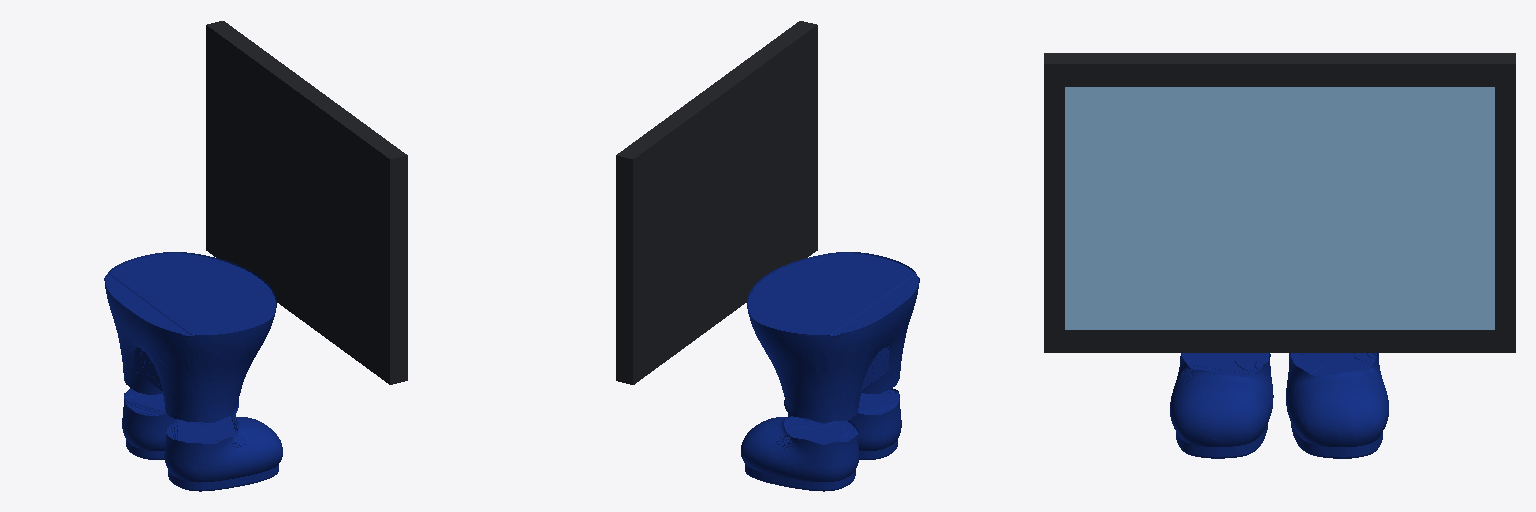
robot.urdf — haetburi:
<?xml version="1.0"?>
<!-- Haetburi biped (v16_scs0009) - generated by tools/build_model.py, do not edit by hand -->
<robot name="haetburi">
  <mujoco>
    <compiler meshdir="." balanceinertia="true" discardvisual="false" strippath="false" fusestatic="false"/>
  </mujoco>
  <material name="display"><color rgba="0.18 0.19 0.21 1"/></material>
  <material name="screen"><color rgba="0.62 0.80 0.95 1"/></material>
  <material name="shell"><color rgba="0.106 0.216 0.541 1"/></material>
  <material name="motor"><color rgba="0.15 0.15 0.17 1"/></material>
  <material name="foot"><color rgba="0.25 0.25 0.28 1"/></material>
  <link name="world"/>
  <joint name="floating_base" type="floating">
    <parent link="world"/><child link="pelvis"/>
    <origin xyz="0 0 0" rpy="0 0 0"/>
  </joint>
  <link name="pelvis">
    <inertial>
      <origin xyz="-0.00916011 -6.07431e-05 0.0431605" rpy="0 0 0"/>
      <mass value="0.239454"/>
      <inertia ixx="0.000273419" ixy="1.4343e-07" ixz="0.000100212" iyy="0.000345887" iyz="-2.74907e-07" izz="0.00029722"/>
    </inertial>
    <visual><origin xyz="0 0 0" rpy="0 0 0"/><geometry><mesh filename="meshes/pelvis.stl"/></geometry><material name="shell"/></visual>
    <visual><origin xyz="0.00560262 0.0242998 0.024625" rpy="0 0 0"/><geometry><box size="0.0232 0.0121 0.02525"/></geometry><material name="motor"/></visual>
    <visual><origin xyz="0.00559738 -0.0245996 0.024625" rpy="0 0 0"/><geometry><box size="0.0232 0.0121 0.02525"/></geometry><material name="motor"/></visual>
    <collision><origin xyz="0.0074116 -0.000145202 0.025925" rpy="0 0 0"/><geometry><box size="0.0888616 0.118003 0.05185"/></geometry></collision>
  </link>
  <link name="torso">
    <inertial>
      <origin xyz="0.0213729 0.000103123 0.129208" rpy="0 0 0"/>
      <mass value="2.10184"/>
      <inertia ixx="0.0337524" ixy="-9.90532e-05" ixz="0.00607724" iyy="0.0339552" iyz="-9.52832e-05" izz="0.0185571"/>
    </inertial>
    <visual><origin xyz="0 0 0" rpy="0 0 0"/><geometry><mesh filename="meshes/torso.stl"/></geometry><material name="shell"/></visual>
    <visual><origin xyz="0.0833876 0 0.040194" rpy="0 0 0"/><geometry><box size="0.01173 0.21471 0.145146"/></geometry><material name="display"/></visual>
    <visual><origin xyz="0.0892526 0 0.040194" rpy="0 0 0"/><geometry><box size="0.0004 0.19584 0.1224"/></geometry><material name="screen"/></visual>
    <collision><origin xyz="-0.0387164 -1.80232e-06 0.0285634" rpy="0 0 0"/><geometry><box size="0.181731 0.123226 0.121352"/></geometry></collision>
    <collision><origin xyz="0.047277 0.0954498 0.0575575" rpy="0 0 0"/><geometry><sphere radius="0.0690444"/></geometry></collision>
    <collision><origin xyz="0.0476039 -0.0955962 0.0575575" rpy="0 0 0"/><geometry><sphere radius="0.068978"/></geometry></collision>
    <collision><origin xyz="-0.00593406 0.000303473 0.116523" rpy="0 0 0"/><geometry><sphere radius="0.118425"/></geometry></collision>
    <collision><origin xyz="-0.0103403 -0.000139522 0.171055" rpy="0 0 0"/><geometry><sphere radius="0.136627"/></geometry></collision>
    <collision><origin xyz="-0.0157453 -0.000230275 0.225596" rpy="0 0 0"/><geometry><sphere radius="0.135044"/></geometry></collision>
    <collision><origin xyz="-0.0123522 0.00097276 0.280134" rpy="0 0 0"/><geometry><sphere radius="0.117426"/></geometry></collision>
    <collision><origin xyz="-0.00730916 0.00769967 0.334706" rpy="0 0 0"/><geometry><sphere radius="0.0836977"/></geometry></collision>
    <collision><origin xyz="-0.013395 -0.00254491 0.38923" rpy="0 0 0"/><geometry><sphere radius="0.0485723"/></geometry></collision>
    <collision><origin xyz="0.0833876 0 0.040194" rpy="0 0 0"/><geometry><box size="0.01173 0.21471 0.145146"/></geometry></collision>
  </link>
  <link name="leg_l">
    <inertial>
      <origin xyz="-0.000604713 -0.000218106 -0.0198106" rpy="0 0 0"/>
      <mass value="0.0180786"/>
      <inertia ixx="6.26529e-06" ixy="-5.08571e-09" ixz="1.19537e-07" iyy="5.41488e-06" iyz="5.48807e-08" izz="5.06589e-06"/>
    </inertial>
    <visual><origin xyz="0 0 0" rpy="0 0 0"/><geometry><mesh filename="meshes/leg_l.stl"/></geometry><material name="shell"/></visual>
    <collision><origin xyz="-5.62186e-07 -7.75024e-06 -0.00606946" rpy="0 0 0"/><geometry><box size="0.0463535 0.0424676 0.0121389"/></geometry></collision>
  </link>
  <link name="ankle_l">
    <inertial>
      <origin xyz="-0.00225914 -0.000711287 8.74534e-05" rpy="0 0 0"/>
      <mass value="0.0247385"/>
      <inertia ixx="2.1269e-06" ixy="-1.58205e-07" ixz="1.94514e-08" iyy="3.27059e-06" iyz="1.76044e-09" izz="4.30573e-06"/>
    </inertial>
    <visual><origin xyz="0.0056 0 0" rpy="0 0 0"/><geometry><box size="0.0232 0.02525 0.0121"/></geometry><material name="motor"/></visual>
  </link>
  <link name="foot_l">
    <inertial>
      <origin xyz="0.0104958 0.00133542 -0.000873181" rpy="0 0 0"/>
      <mass value="0.0685808"/>
      <inertia ixx="1.68585e-05" ixy="-1.46845e-06" ixz="-1.37248e-06" iyy="3.12043e-05" iyz="-1.76921e-07" izz="3.30341e-05"/>
    </inertial>
    <visual><origin xyz="0 0 0" rpy="0 0 0"/><geometry><mesh filename="meshes/foot_l.stl"/></geometry><material name="shell"/></visual>
    <visual><origin xyz="0 0 0.0056" rpy="0 0 0"/><geometry><box size="0.02525 0.0121 0.0232"/></geometry><material name="motor"/></visual>
    <collision><origin xyz="0 0 0" rpy="0 0 0"/><geometry><mesh filename="meshes/foot_l.stl"/></geometry></collision>
  </link>
  <link name="leg_r">
    <inertial>
      <origin xyz="-0.000451072 0.000250654 -0.0196885" rpy="0 0 0"/>
      <mass value="0.0181871"/>
      <inertia ixx="6.33147e-06" ixy="-2.52415e-08" ixz="9.37158e-08" iyy="5.41953e-06" iyz="-6.31822e-08" izz="5.11627e-06"/>
    </inertial>
    <visual><origin xyz="0 0 0" rpy="0 0 0"/><geometry><mesh filename="meshes/leg_r.stl"/></geometry><material name="shell"/></visual>
    <collision><origin xyz="1.34256e-06 1.22866e-05 -0.00599163" rpy="0 0 0"/><geometry><box size="0.0463159 0.0425492 0.0119833"/></geometry></collision>
  </link>
  <link name="ankle_r">
    <inertial>
      <origin xyz="-0.00225914 0.000478078 8.74534e-05" rpy="0 0 0"/>
      <mass value="0.0247385"/>
      <inertia ixx="2.11905e-06" ixy="1.06334e-07" ixz="1.94514e-08" iyy="3.27059e-06" iyz="-1.18324e-09" izz="4.29788e-06"/>
    </inertial>
    <visual><origin xyz="0.0056 0 0" rpy="0 0 0"/><geometry><box size="0.0232 0.02525 0.0121"/></geometry><material name="motor"/></visual>
  </link>
  <link name="foot_r">
    <inertial>
      <origin xyz="0.0103512 -0.00147155 -0.000916535" rpy="0 0 0"/>
      <mass value="0.0684201"/>
      <inertia ixx="1.67669e-05" ixy="1.57499e-06" ixz="-1.29635e-06" iyy="3.09505e-05" iyz="1.96094e-07" izz="3.28156e-05"/>
    </inertial>
    <visual><origin xyz="0 0 0" rpy="0 0 0"/><geometry><mesh filename="meshes/foot_r.stl"/></geometry><material name="shell"/></visual>
    <visual><origin xyz="0 0 0.0056" rpy="0 0 0"/><geometry><box size="0.02525 0.0121 0.0232"/></geometry><material name="motor"/></visual>
    <collision><origin xyz="0 0 0" rpy="0 0 0"/><geometry><mesh filename="meshes/foot_r.stl"/></geometry></collision>
  </link>
  <joint name="waist_fixed" type="fixed">
    <parent link="pelvis"/><child link="torso"/>
    <origin xyz="0 0 0.05185" rpy="0 0 0"/>
  </joint>
  <joint name="hip_yaw_l" type="revolute">
    <parent link="pelvis"/><child link="leg_l"/>
    <origin xyz="2.61731e-06 0.0242998 0" rpy="0 0 0"/>
    <axis xyz="0 0 1"/>
    <limit lower="-0.523599" upper="0.523599" effort="0.226" velocity="10.5"/>
    <dynamics damping="0.016142857142857146" friction="0.006457142857142858"/>
  </joint>
  <joint name="hip_yaw_r" type="revolute">
    <parent link="pelvis"/><child link="leg_r"/>
    <origin xyz="-2.61731e-06 -0.0245996 0" rpy="0 0 0"/>
    <axis xyz="0 0 1"/>
    <limit lower="-0.523599" upper="0.523599" effort="0.226" velocity="10.5"/>
    <dynamics damping="0.016142857142857146" friction="0.006457142857142858"/>
  </joint>
  <joint name="ankle_pitch_l" type="revolute">
    <parent link="leg_l"/><child link="ankle_l"/>
    <origin xyz="0.0172286 0.00260068 -0.0443" rpy="0 0 0"/>
    <axis xyz="0 1 0"/>
    <limit lower="-0.261799" upper="0.261799" effort="0.226" velocity="10.5"/>
    <dynamics damping="0.016142857142857146" friction="0.006457142857142858"/>
  </joint>
  <joint name="ankle_pitch_r" type="revolute">
    <parent link="leg_r"/><child link="ankle_r"/>
    <origin xyz="0.0173476 -0.0013895 -0.0443" rpy="0 0 0"/>
    <axis xyz="0 1 0"/>
    <limit lower="-0.261799" upper="0.261799" effort="0.226" velocity="10.5"/>
    <dynamics damping="0.016142857142857146" friction="0.006457142857142858"/>
  </joint>
  <joint name="ankle_roll_l" type="revolute">
    <parent link="ankle_l"/><child link="foot_l"/>
    <origin xyz="-0.0225 -0.00305 0.000375" rpy="0 0 0"/>
    <axis xyz="1 0 0"/>
    <limit lower="-0.20944" upper="0.20944" effort="0.226" velocity="10.5"/>
    <dynamics damping="0.016142857142857146" friction="0.006457142857142858"/>
  </joint>
  <joint name="ankle_roll_r" type="revolute">
    <parent link="ankle_r"/><child link="foot_r"/>
    <origin xyz="-0.0225 0.00205 0.000375" rpy="0 0 0"/>
    <axis xyz="1 0 0"/>
    <limit lower="-0.20944" upper="0.20944" effort="0.226" velocity="10.5"/>
    <dynamics damping="0.016142857142857146" friction="0.006457142857142858"/>
  </joint>
</robot>

--- What the picture shows (computed from the rendered views, not written in the file) ---
3 views of the same robot in one strip: view 1: azimuth 30°, elevation 25°; view 2: azimuth 150°, elevation 25°; view 3: azimuth 270°, elevation 25° (orthographic).
Model haetburi with 9 links and 8 joints (6 revolute, 1 fixed, 1 floating), rooted at world, posed all joints at 0.
Links seen in each view (by area): view 1: torso, pelvis, foot_r, foot_l, leg_r, leg_l; view 2: torso, pelvis, foot_l, foot_r, leg_l; view 3: torso, foot_r, foot_l.
Link boxes in pixels (box(x1,y1,x2,y2)): torso: box(206, 21, 407, 384); pelvis: box(104, 252, 276, 407); foot_r: box(164, 416, 282, 491); foot_l: box(122, 388, 235, 459); leg_r: box(163, 392, 240, 422); leg_l: box(123, 364, 162, 394); torso: box(616, 21, 817, 384); pelvis: box(747, 252, 919, 407); foot_l: box(741, 416, 858, 491); foot_r: box(788, 388, 901, 459); leg_l: box(784, 394, 860, 423); torso: box(1044, 53, 1515, 352); foot_r: box(1170, 353, 1273, 458); foot_l: box(1286, 353, 1388, 458).
Bounding box of the posed robot: 0.1265 × 0.2147 × 0.2199 m (x, y, z).
5 mesh visuals loaded from 6 distinct referenced files (5 binary STL); not drawn: 1 (reference not matched to a file when rendering).
